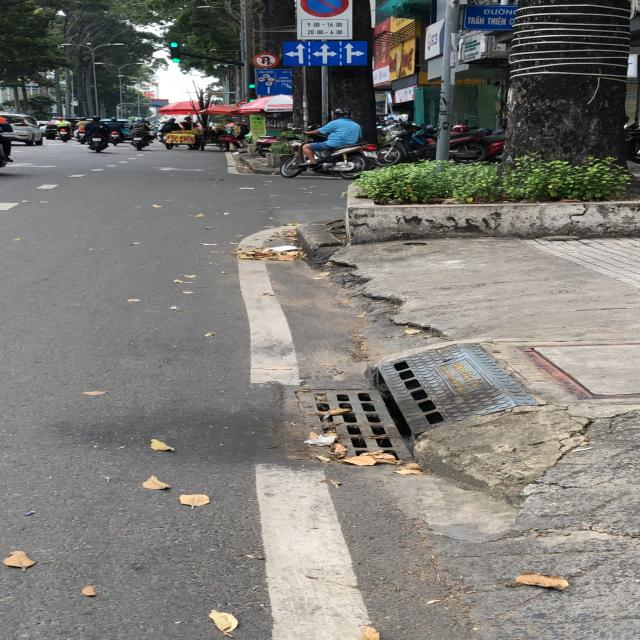Bien bao cam do xe: (297, 0, 352, 19)
Bien bao cam quay dau xe: (251, 48, 282, 70)
